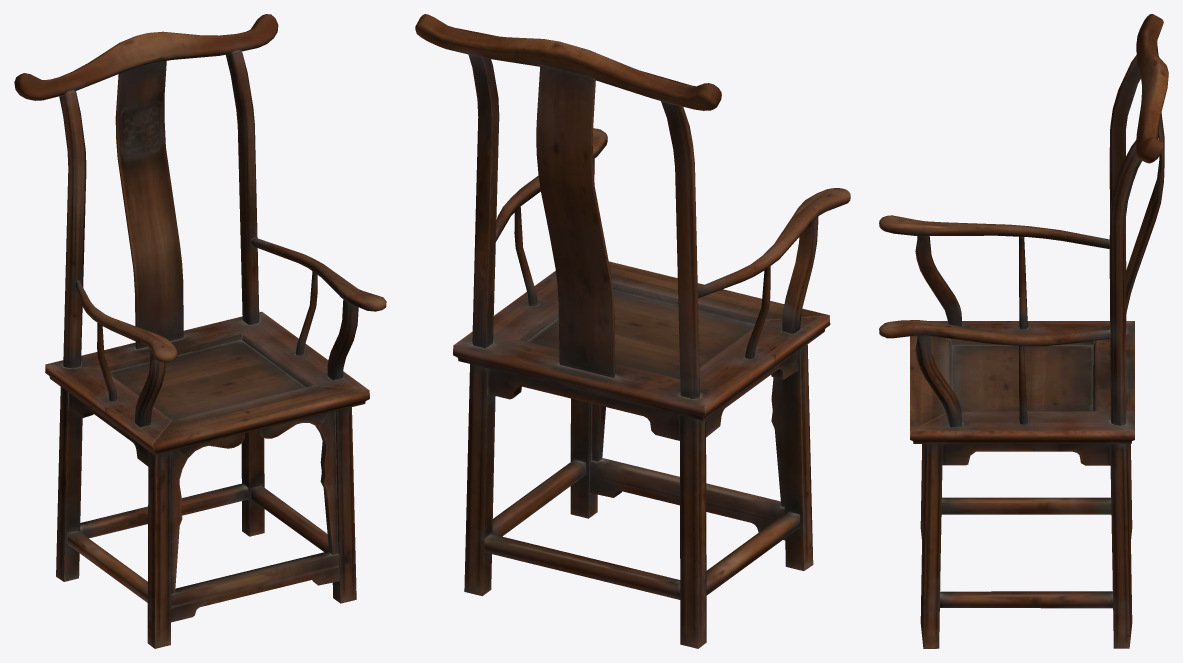
The model's file is chinese_armchair.glb.
3 renders of one model, left to right at view 1: azimuth 30°, elevation 25°; view 2: azimuth 150°, elevation 25°; view 3: azimuth 270°, elevation 25°, orthographic. The views are drawn at different scales.
Visible parts, largest first — view 1: chinese_armchair; view 2: chinese_armchair; view 3: chinese_armchair.
Boxes of the visible parts, <box> form: chinese_armchair: <box>14,14,386,648</box>; chinese_armchair: <box>415,14,850,648</box>; chinese_armchair: <box>879,14,1168,648</box>.
Size of the model in its own units: 0.8483 by 1.59 by 0.7886.
Materials: 1 (1 with a texture image).
